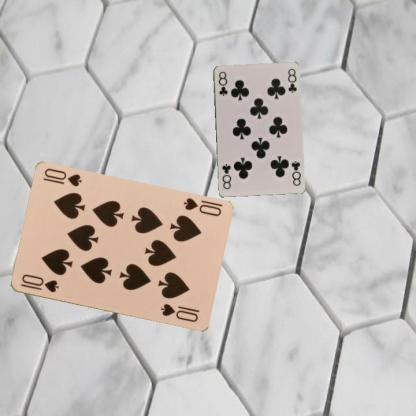10s: (180, 195, 223, 218), (17, 272, 60, 294)
8c: (288, 158, 302, 187), (215, 69, 229, 97)
